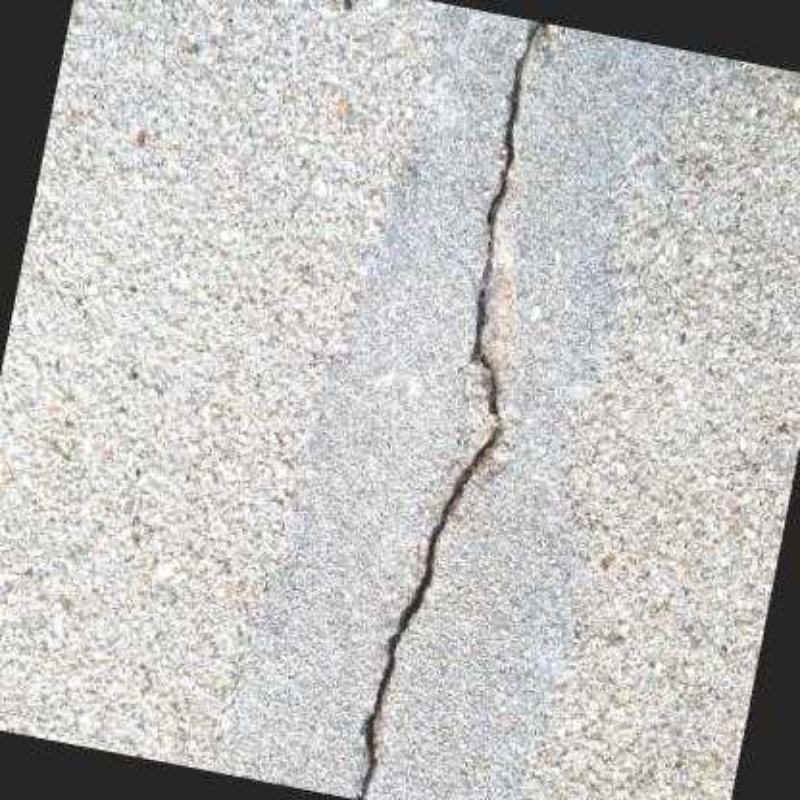pothole: (355, 20, 549, 800)
